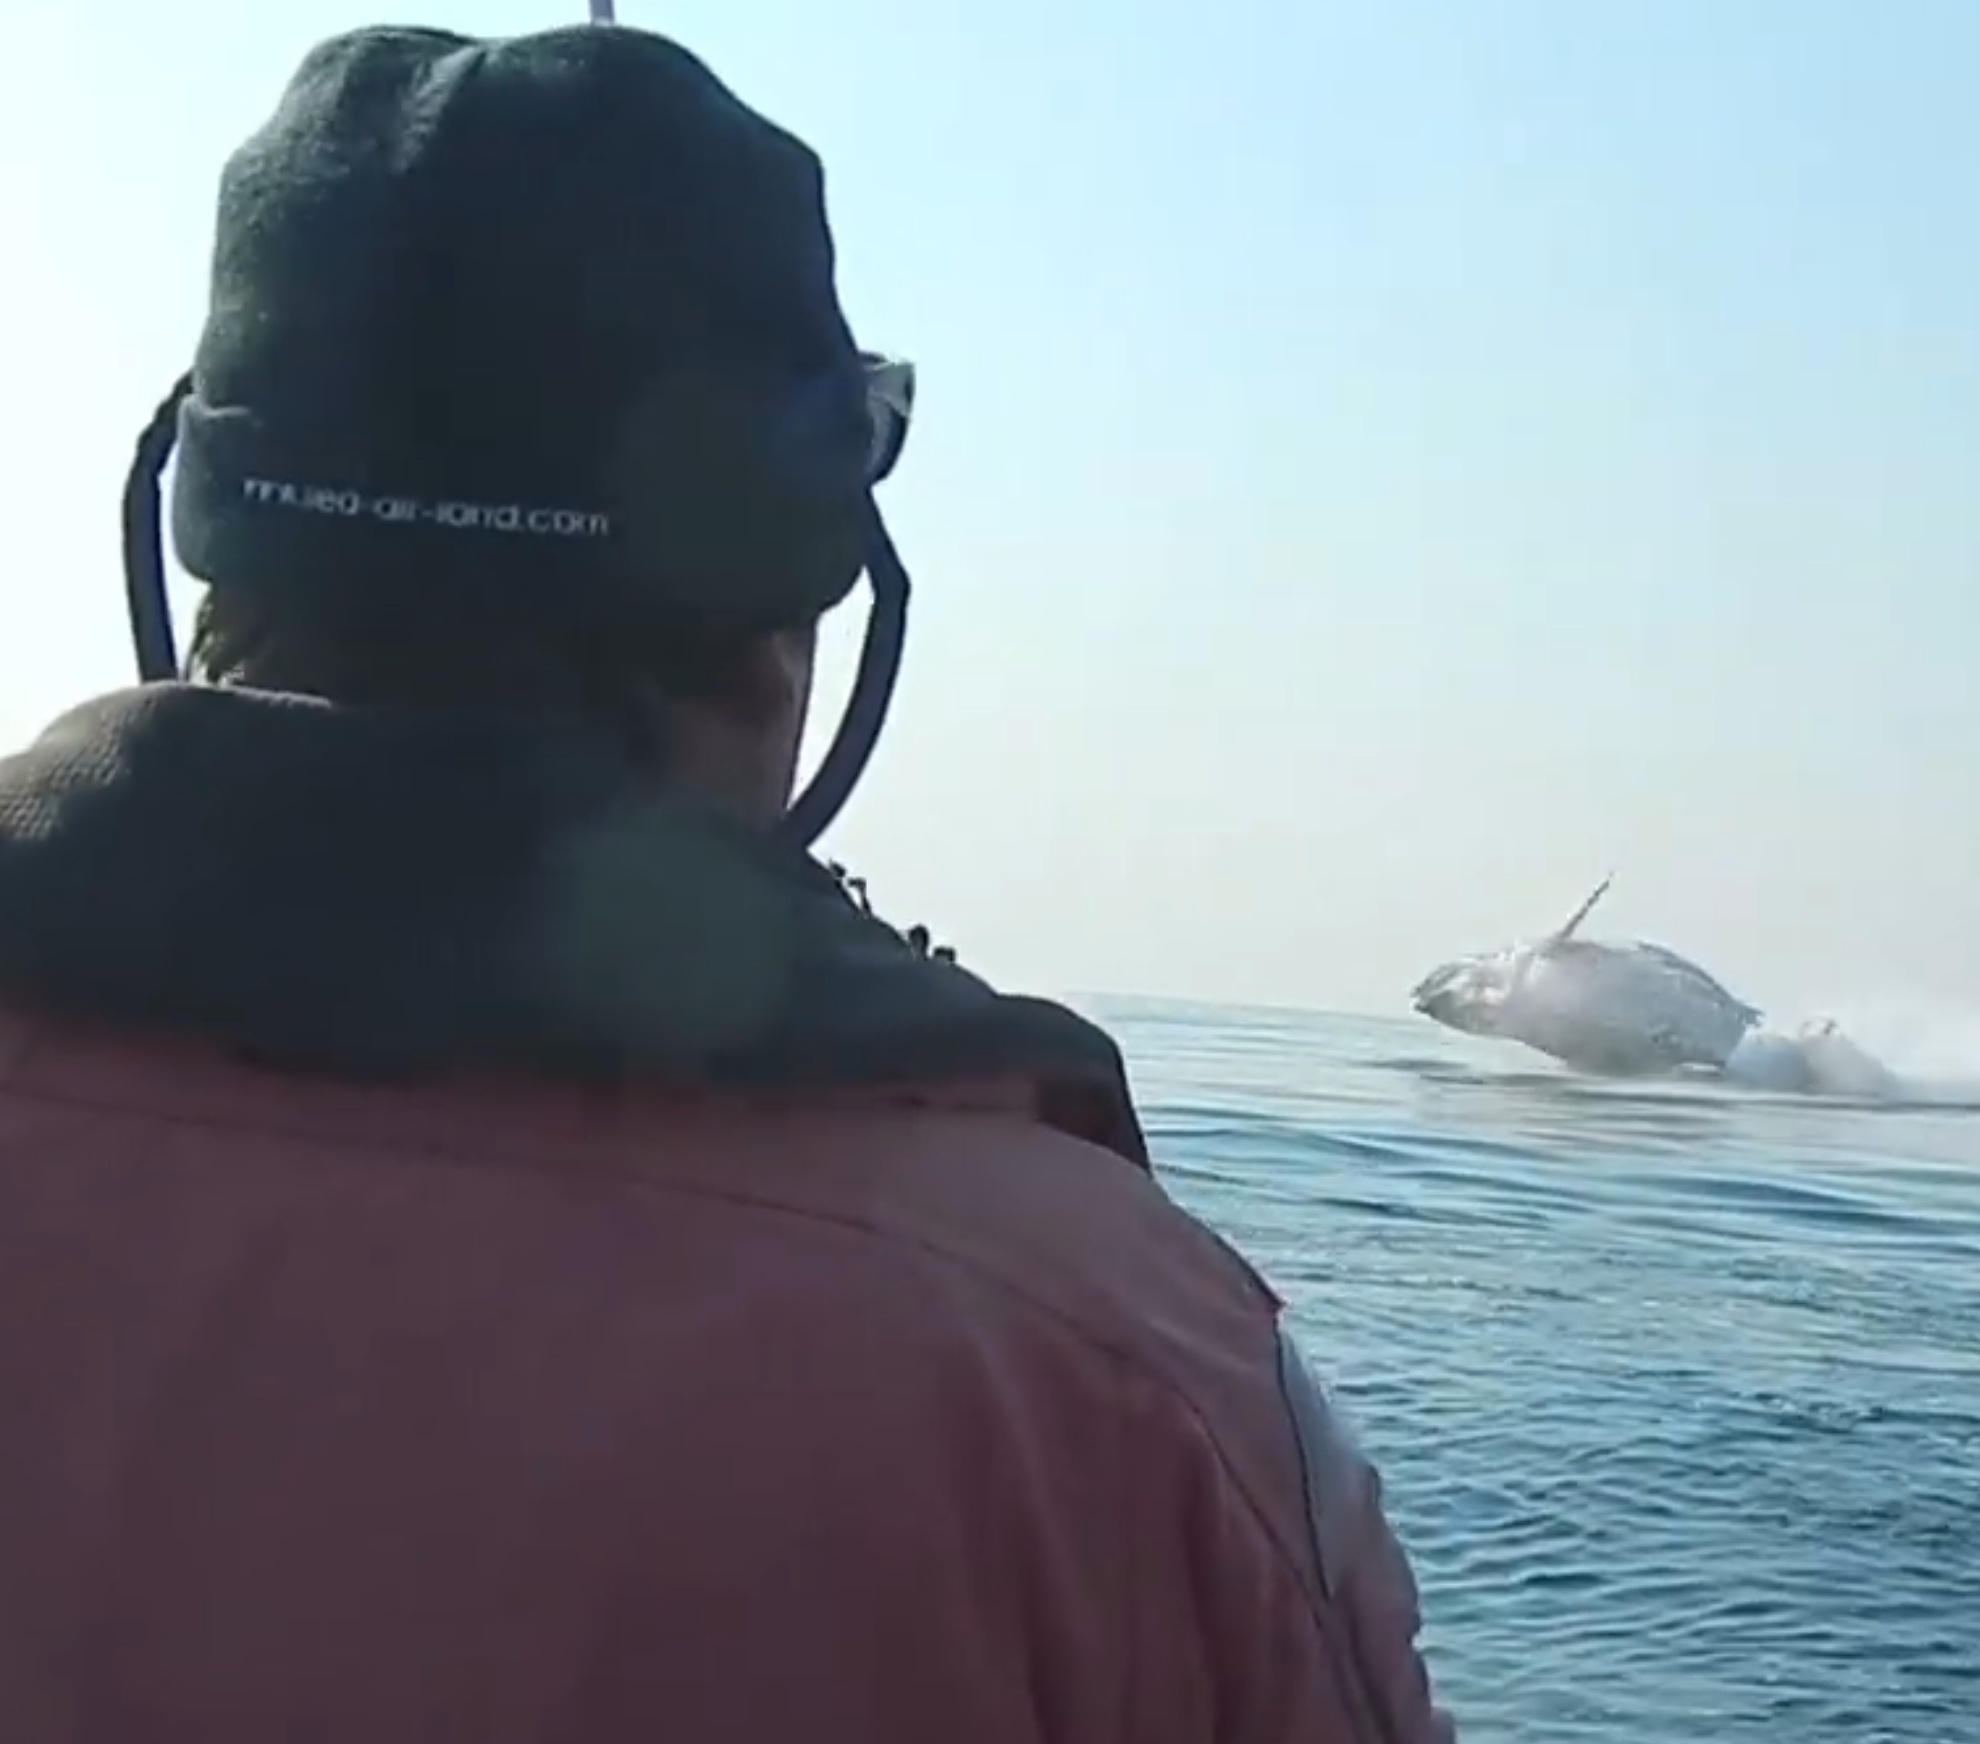humpback: (1408, 929, 1768, 1071)
